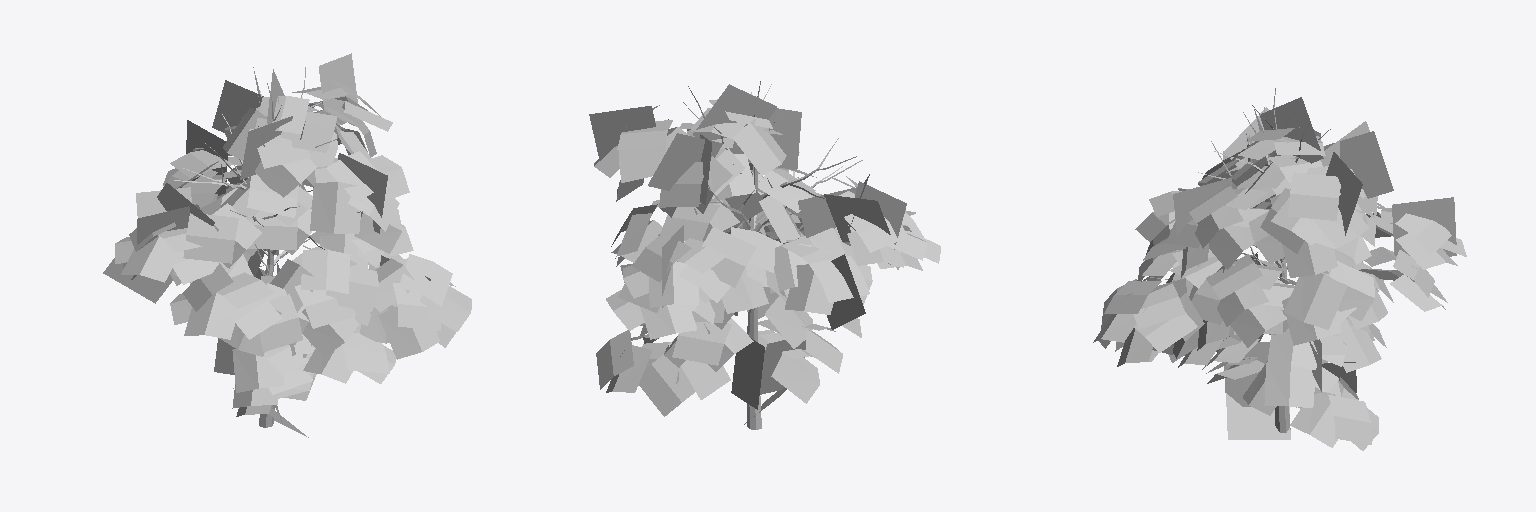
The model's file is tree4b_lod1.obj.
3 renders of one model, left to right at view 1: azimuth 30°, elevation 25°; view 2: azimuth 150°, elevation 25°; view 3: azimuth 270°, elevation 25°, orthographic.
Parts seen in each view (by area): view 1: leaves 0.0 0.[number redacted] 0.0 0 0 0 0.[number redacted] 0.[number redacted], bark 0.[number redacted] -0.[number redacted] -0.[number redacted]; view 2: leaves 0.0 0.[number redacted] 0.0 0 0 0 0.[number redacted] 0.[number redacted], bark 0.[number redacted] -0.[number redacted] -0.[number redacted]; view 3: leaves 0.0 0.[number redacted] 0.0 0 0 0 0.[number redacted] 0.[number redacted], bark 0.[number redacted] -0.[number redacted] -0.[number redacted].
Part boxes in pixels (x1,y1,x2,y2): leaves 0.0 0.[number redacted] 0.0 0 0 0 0.[number redacted] 0.[number redacted]: (103, 53, 471, 437); bark 0.[number redacted] -0.[number redacted] -0.[number redacted]: (174, 67, 362, 427); leaves 0.0 0.[number redacted] 0.0 0 0 0 0.[number redacted] 0.[number redacted]: (589, 84, 940, 424); bark 0.[number redacted] -0.[number redacted] -0.[number redacted]: (683, 81, 862, 429); leaves 0.0 0.[number redacted] 0.0 0 0 0 0.[number redacted] 0.[number redacted]: (1093, 97, 1466, 450); bark 0.[number redacted] -0.[number redacted] -0.[number redacted]: (1198, 88, 1330, 432).
Bounding box in the file's own units: 0.878 × 1 × 0.982.